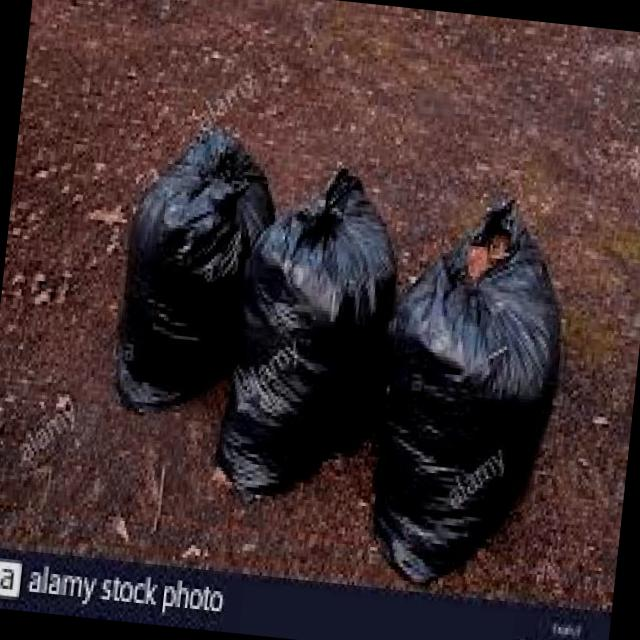high trash: (117, 127, 558, 583)
